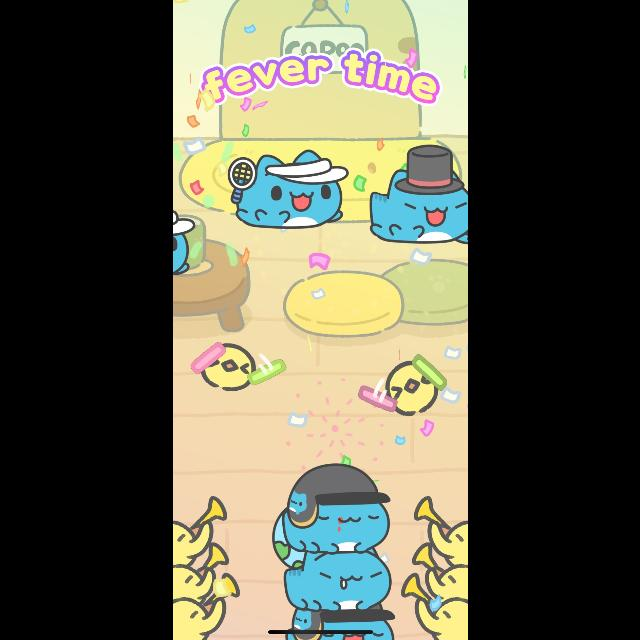capoo: (225, 147, 347, 231), (366, 144, 466, 246), (284, 462, 392, 556), (284, 558, 394, 616)
